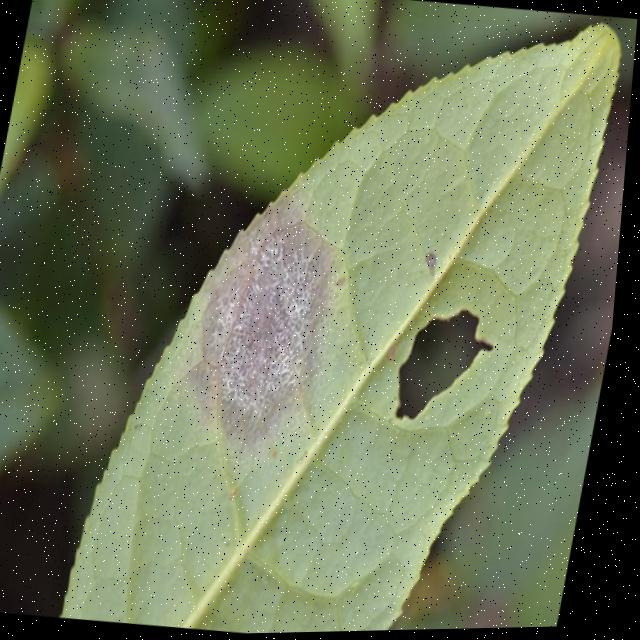Tea exobasidium blight: (174, 203, 351, 434)
